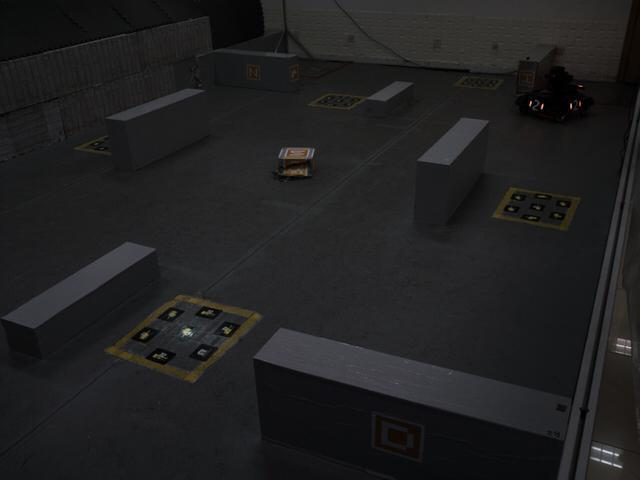armor: (527, 94, 545, 115), (569, 96, 583, 116)
